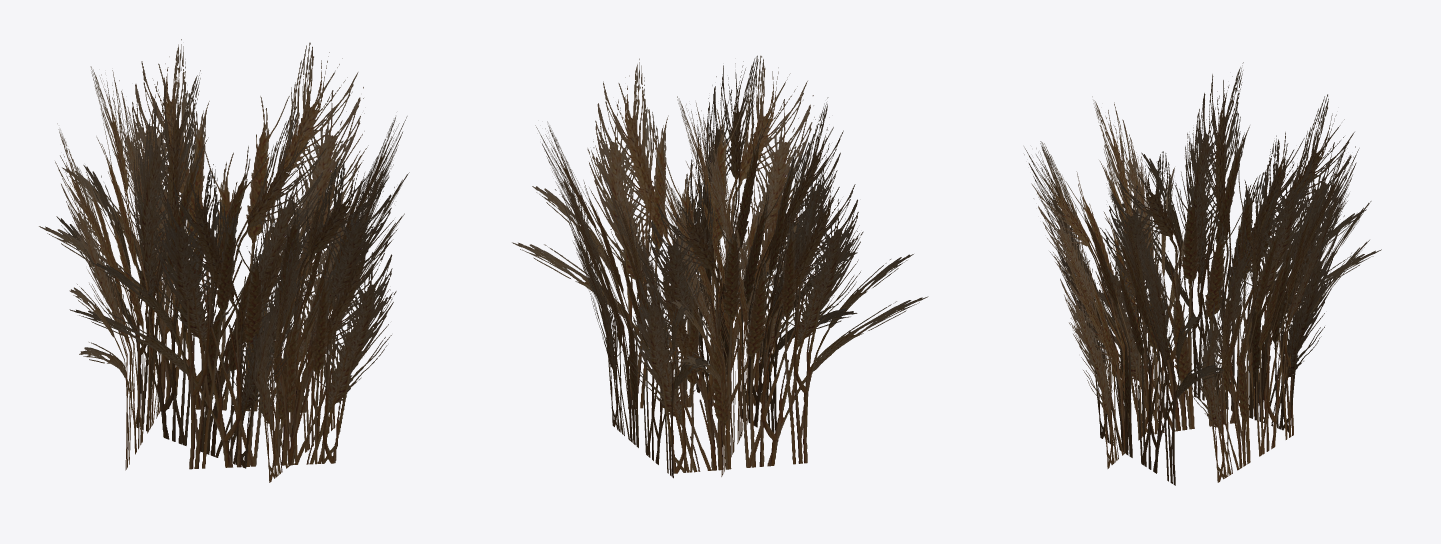
The model's file is wheat_1.obj.
3 renders of one model, left to right at view 1: azimuth 30°, elevation 25°; view 2: azimuth 150°, elevation 25°; view 3: azimuth 270°, elevation 25°, orthographic. The views are drawn at different scales.
Parts seen in each view (by area): view 1: wheat_1; view 2: wheat_1; view 3: wheat_1.
Part boxes in pixels (box(x1,y1,x2,y2)): wheat_1: box(39, 39, 409, 482); wheat_1: box(512, 55, 928, 478); wheat_1: box(1024, 62, 1381, 485).
Size of the model in its own units: 1.7 by 1.25 by 1.47.
